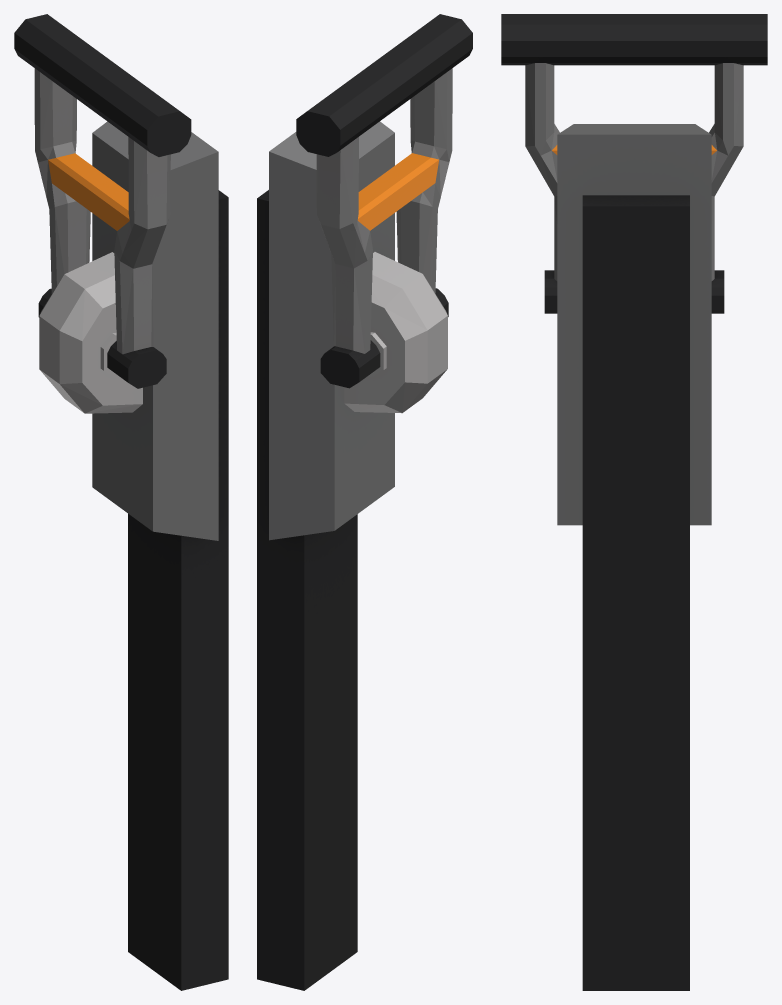
Rendered from Lever.fbx.
3 renders of one model, left to right at view 1: azimuth 30°, elevation 25°; view 2: azimuth 150°, elevation 25°; view 3: azimuth 270°, elevation 25°, orthographic.
Visible parts, largest first — view 1: Box008; view 2: Box008; view 3: Box008.
Part boxes in pixels (x1,y1,x2,y2): Box008: (14,14,228,990); Box008: (257,14,472,990); Box008: (501,14,767,990).
Size of the model in its own units: 30.28 by 174 by 45.42.
